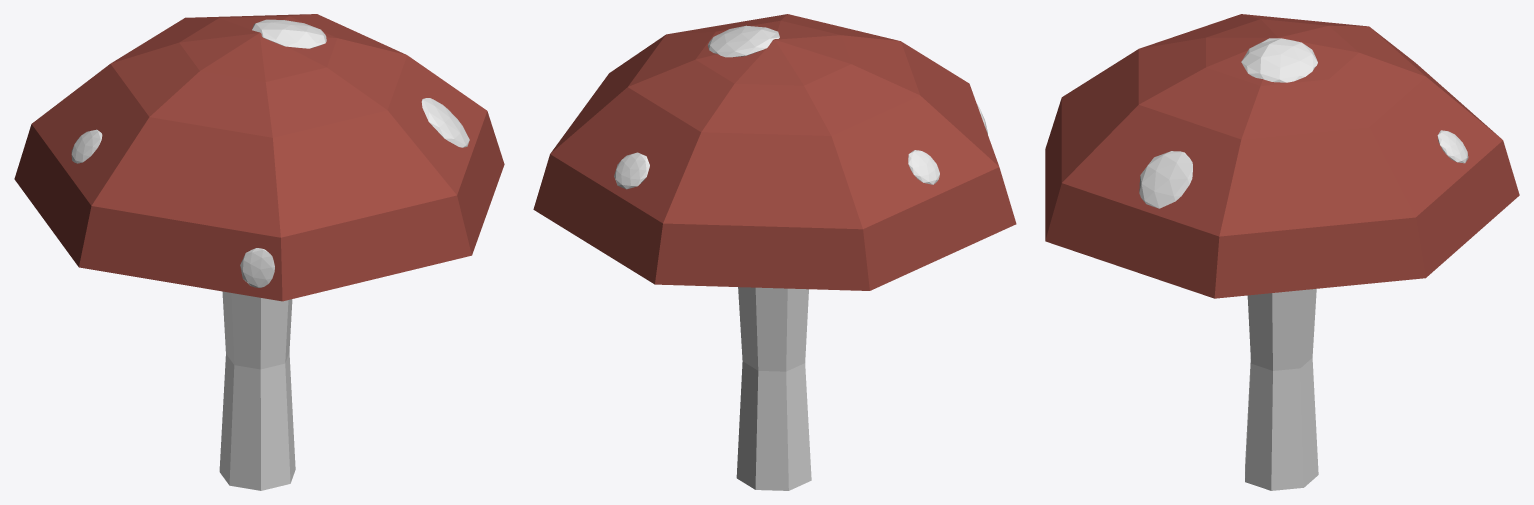
File: not mushroom.fbx
3 renders of one model, left to right at view 1: azimuth 30°, elevation 25°; view 2: azimuth 150°, elevation 25°; view 3: azimuth 270°, elevation 25°, orthographic.
Visible parts, largest first — view 1: Icosphere; view 2: Icosphere; view 3: Icosphere.
Part boxes in pixels (<box>): Icosphere: <box>14,14,504,490</box>; Icosphere: <box>533,14,1016,490</box>; Icosphere: <box>1045,14,1519,490</box>.
Size of the model in its own units: 70.57 by 70.39 by 68.8.
